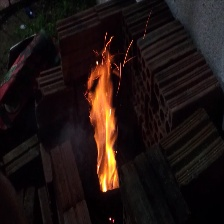fire: (85, 52, 126, 192)
